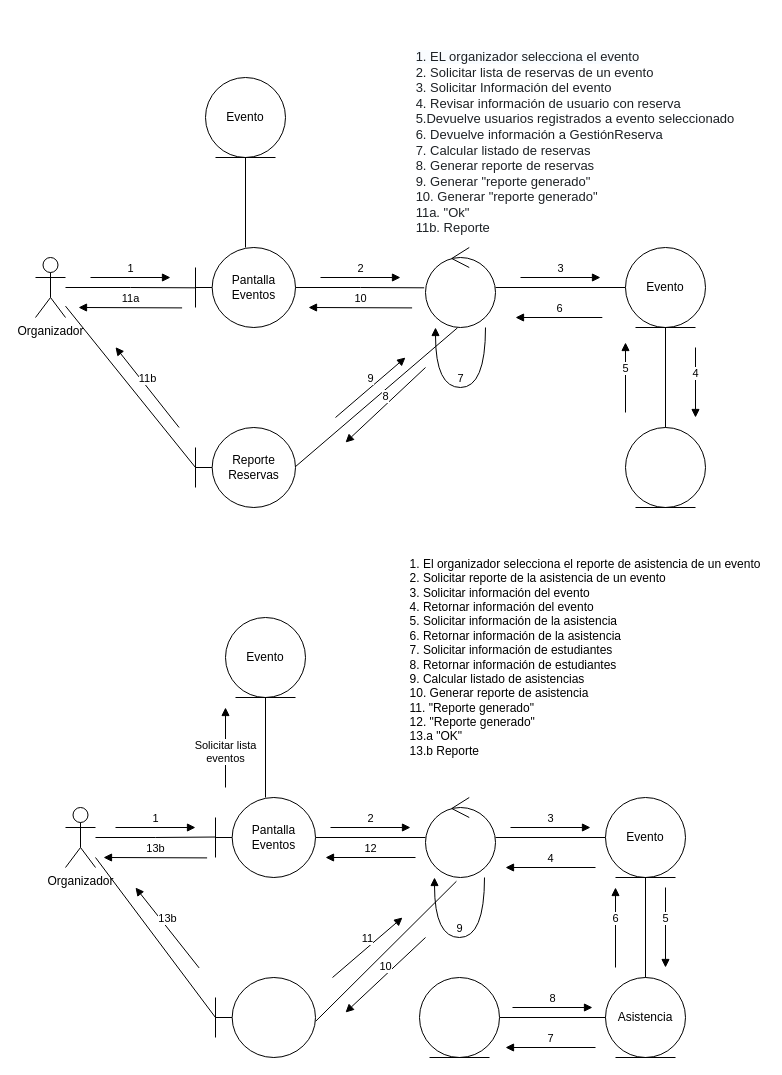
This 782x1075 diagram has some shape labels left out. The shapes that lost their labels are listed below. From the top down, each one's box as (x1, y1, x2, y2) in pixels, then its label:
(424, 246, 496, 328): Gestion Reserva
(624, 426, 706, 508): Reserva
(424, 796, 496, 878): Gestion Asistencia
(214, 976, 316, 1058): Reporte Asistencia
(418, 976, 500, 1058): Estudiante
